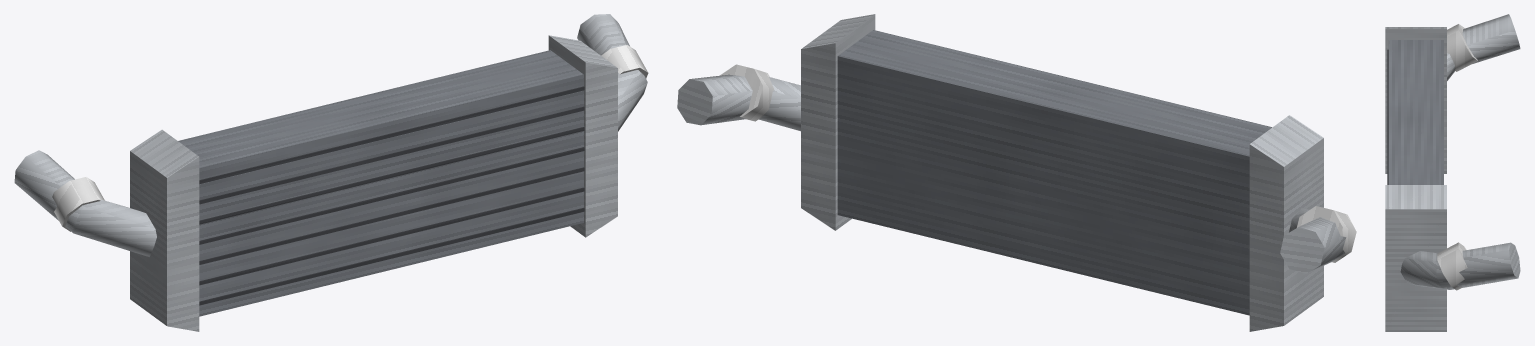
Rendered from intercooler_n3.glb.
The picture shows the model from 3 angles, left to right: view 1: azimuth 30°, elevation 25°; view 2: azimuth 150°, elevation 25°; view 3: azimuth 270°, elevation 25°; orthographic projection. The views are drawn at different scales.
Parts seen in each view (by area): view 1: intercooler_n3; view 2: intercooler_n3; view 3: intercooler_n3.
Part boxes in pixels (left/top/right/bottom): intercooler_n3: left=14, top=14, right=648, bottom=331; intercooler_n3: left=677, top=14, right=1356, bottom=331; intercooler_n3: left=1385, top=14, right=1520, bottom=331.
Size of the model in its own units: 0.9363 by 0.26 by 0.2193.
3 materials, 3 textured.
